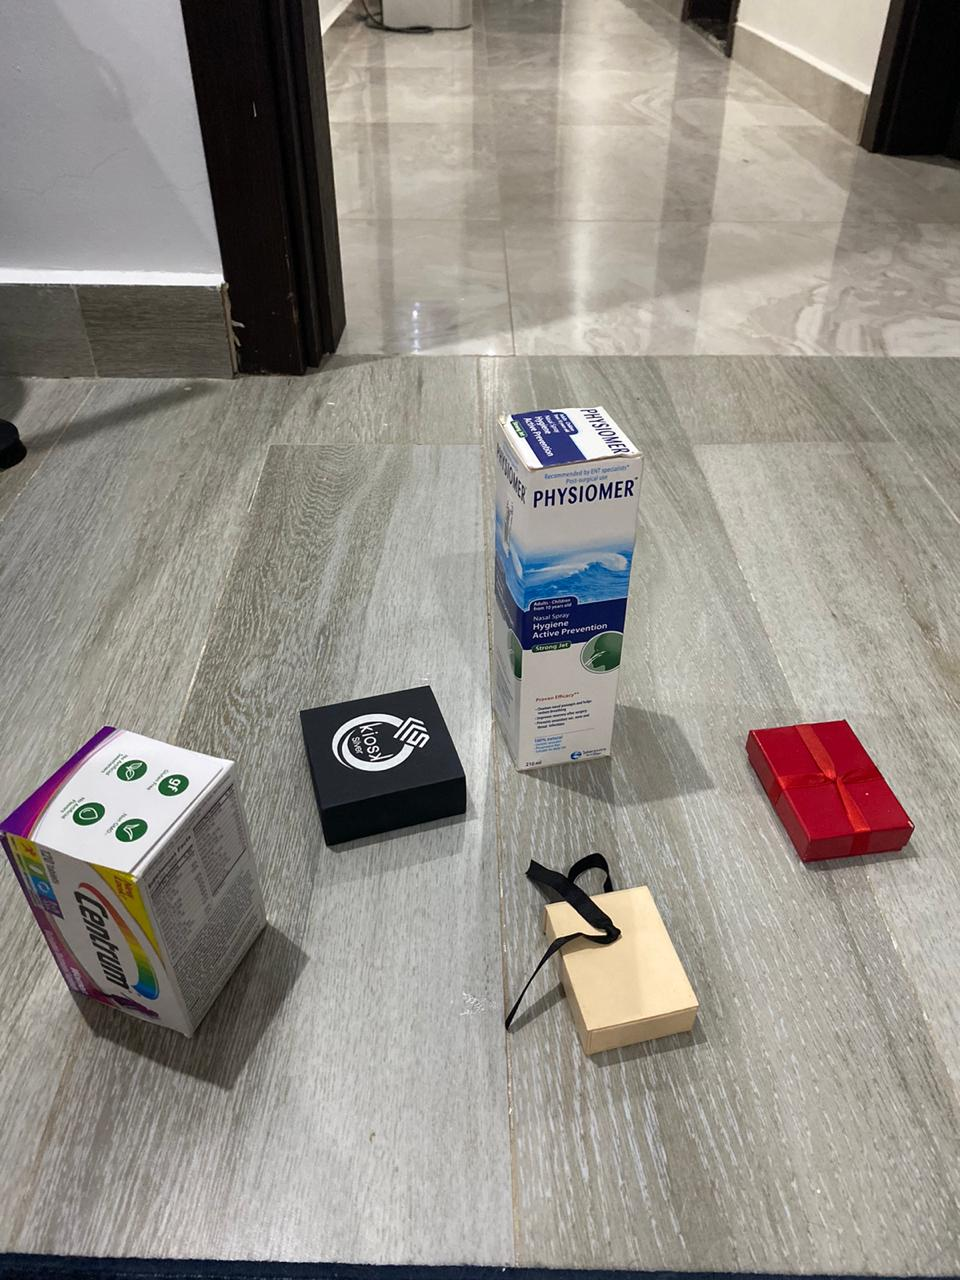Black Box: (295, 683, 471, 848), (742, 718, 920, 872)
Centrum: (6, 720, 275, 1046)
Physiomer: (483, 402, 650, 783)
Yellow Box: (536, 881, 702, 1061)
